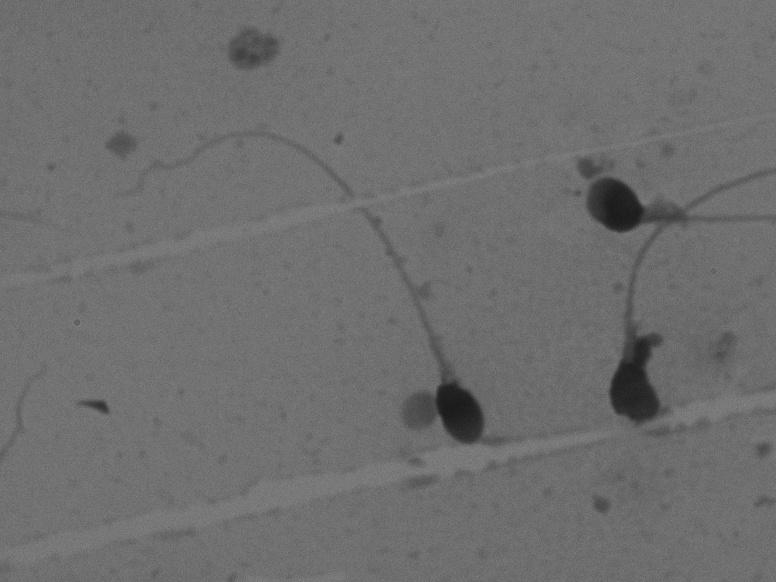Abnormal: (102, 67, 512, 482), (581, 156, 772, 441), (555, 128, 757, 277)
